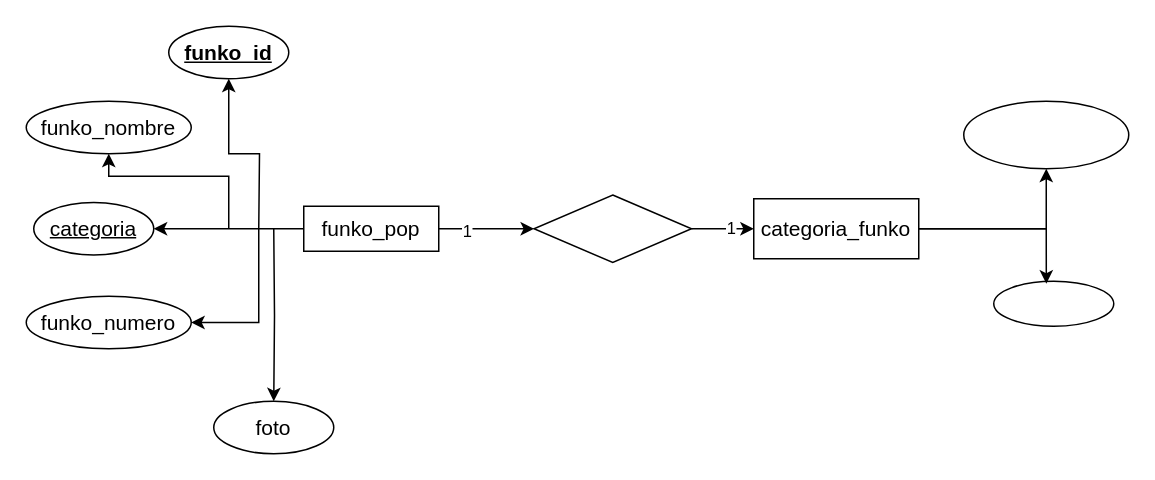
Some shapes in this 1155 by 480 pixel diagram are drawn without their labels. Here are the shapes that lost their labels. From the top down, the centre of each, then its label:
[1045,134]: funko_categoria_id
[612,228]: Pertenece
[1053,303]: nombre
